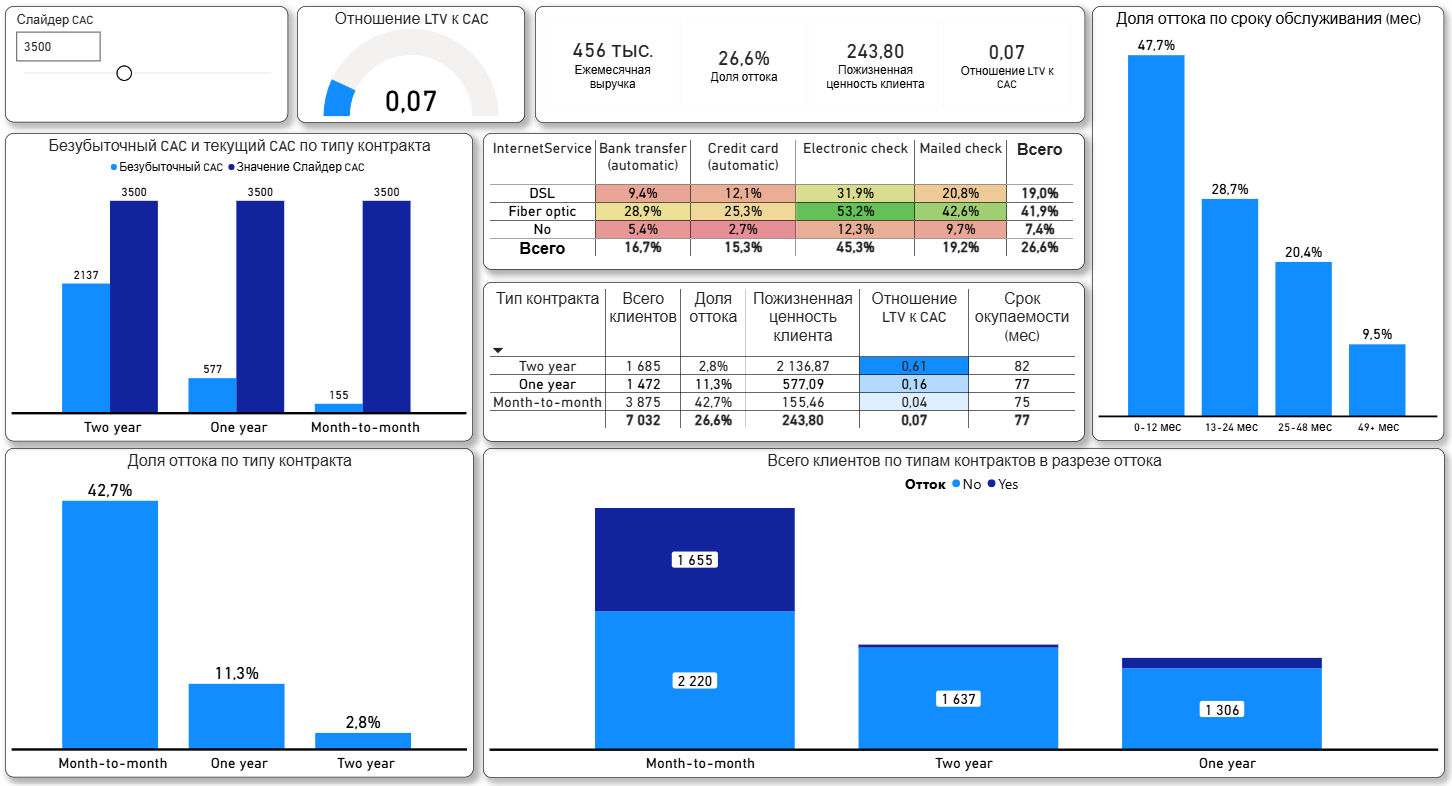

What the dashboard file says about the page in this screenshot:
{"tool":"powerbi","page":{"name":"Страница 1","canvas":[2400,1300],"ordinal":0},"visuals":[{"type":"pivotTable","fields":{"Rows":["Customers.Contract"],"Values":["Меры.Всего клиентов","Меры.Доля оттока","Меры.Пожизненная ценность клиента","Меры.Отношение LTV к CAC","Меры.Срок окупаемости (мес)"]},"box":[796,460,1003.2,266.2],"z":0},{"type":"clusteredColumnChart","title":"Доля оттока по типу контракта","fields":{"Category":["Customers.Contract"],"Y":["Меры.Доля оттока"]},"box":[0,737,781,549.5],"z":1000},{"type":"cardVisual","fields":{"Data":["Меры.Ежемесячная выручка","Меры.Доля оттока","Меры.Пожизненная ценность клиента","Меры.Отношение LTV к CAC"]},"box":[883.3,0,916.7,195],"z":2000},{"type":"slicer","fields":{"Values":["Слайдер CAC.Слайдер CAC"]},"box":[0,0,472,194],"z":3000},{"type":"columnChart","title":"Всего клиентов по типам контрактов в разрезе оттока","fields":{"Category":["Customers.Contract"],"Y":["Меры.Всего клиентов"],"Series":["Customers.Churn"]},"box":[796,736,1603.2,549.8],"z":4000},{"type":"gauge","fields":{"Y":["Меры.Отношение LTV к CAC"]},"box":[486,0,380.1,194.9],"z":5000},{"type":"clusteredColumnChart","title":"Безубыточный CAC и текущий CAC по типу контракта","fields":{"Category":["Customers.Contract"],"Y":["Меры.Безубыточный CAC","Слайдер CAC.Значение Слайдер CAC"]},"box":[0,212,780,514],"z":6000},{"type":"pivotTable","fields":{"Rows":["Customers.InternetService"],"Columns":["Customers.PaymentMethod"],"Values":["Меры.Доля оттока"]},"box":[796.7,211.7,1003.3,228.3],"z":7000},{"type":"clusteredColumnChart","title":"Доля оттока по сроку обслуживания (мес)","fields":{"Category":["Customers.Группа tenure"],"Y":["Меры.Доля оттока"]},"box":[1811.7,0,586.7,725],"z":7001}]}

Visuals, with their boxes in screenshot pixels (x1, y1, x2, y2), scaled from the page's 2400x1300 canvas onto the 1452x786 screenshot:
pivotTable - Customers.Contract x Меры.Всего клиентов: [482,278,1089,439]
"Доля оттока по типу контракта" clusteredColumnChart: [0,446,473,778]
cardVisual - Меры.Ежемесячная выручка x Меры.Доля оттока: [534,0,1089,118]
slicer - Слайдер CAC.Слайдер CAC: [0,0,286,117]
"Всего клиентов по типам контрактов в разрезе оттока" columnChart: [482,445,1451,777]
gauge - Меры.Отношение LTV к CAC: [294,0,524,118]
"Безубыточный CAC и текущий CAC по типу контракта" clusteredColumnChart: [0,128,472,439]
pivotTable - Customers.InternetService x Customers.PaymentMethod: [482,128,1089,266]
"Доля оттока по сроку обслуживания (мес)" clusteredColumnChart: [1096,0,1451,438]
